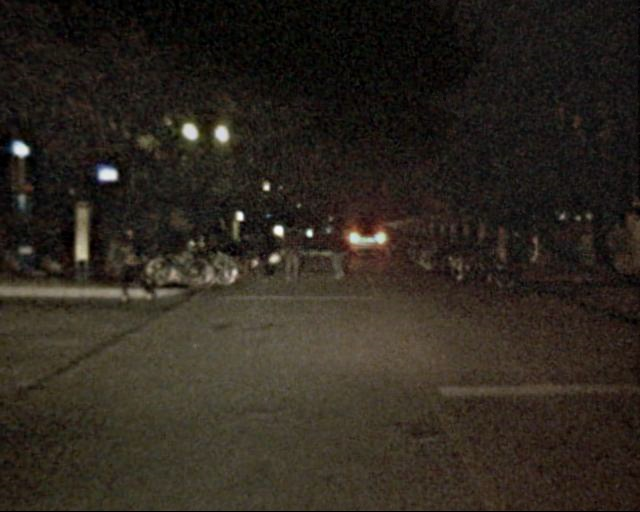person: (118, 222, 157, 307), (249, 217, 274, 279), (323, 221, 348, 282), (281, 226, 305, 288)
